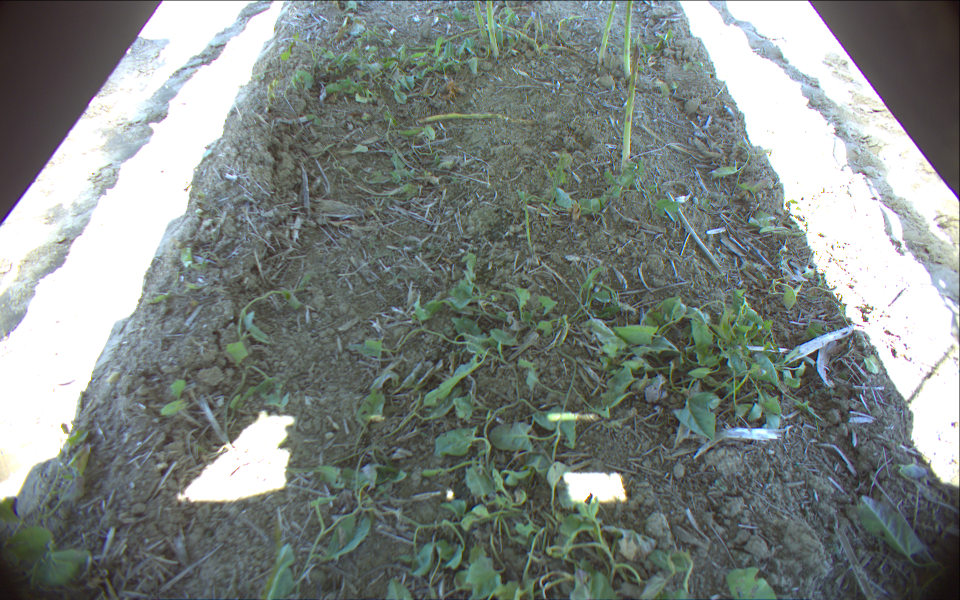aspa: (619, 42, 644, 181), (593, 1, 617, 75), (621, 1, 638, 82), (471, 1, 493, 46), (485, 1, 501, 53)
